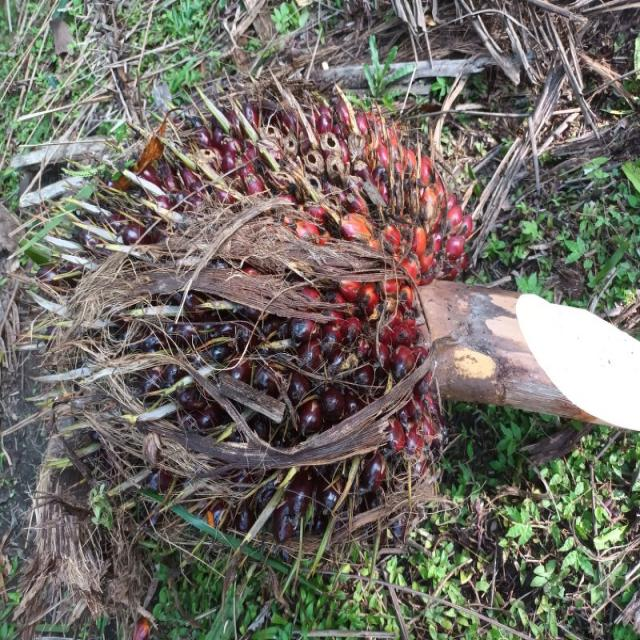fraksi 1: (19, 48, 492, 542)
